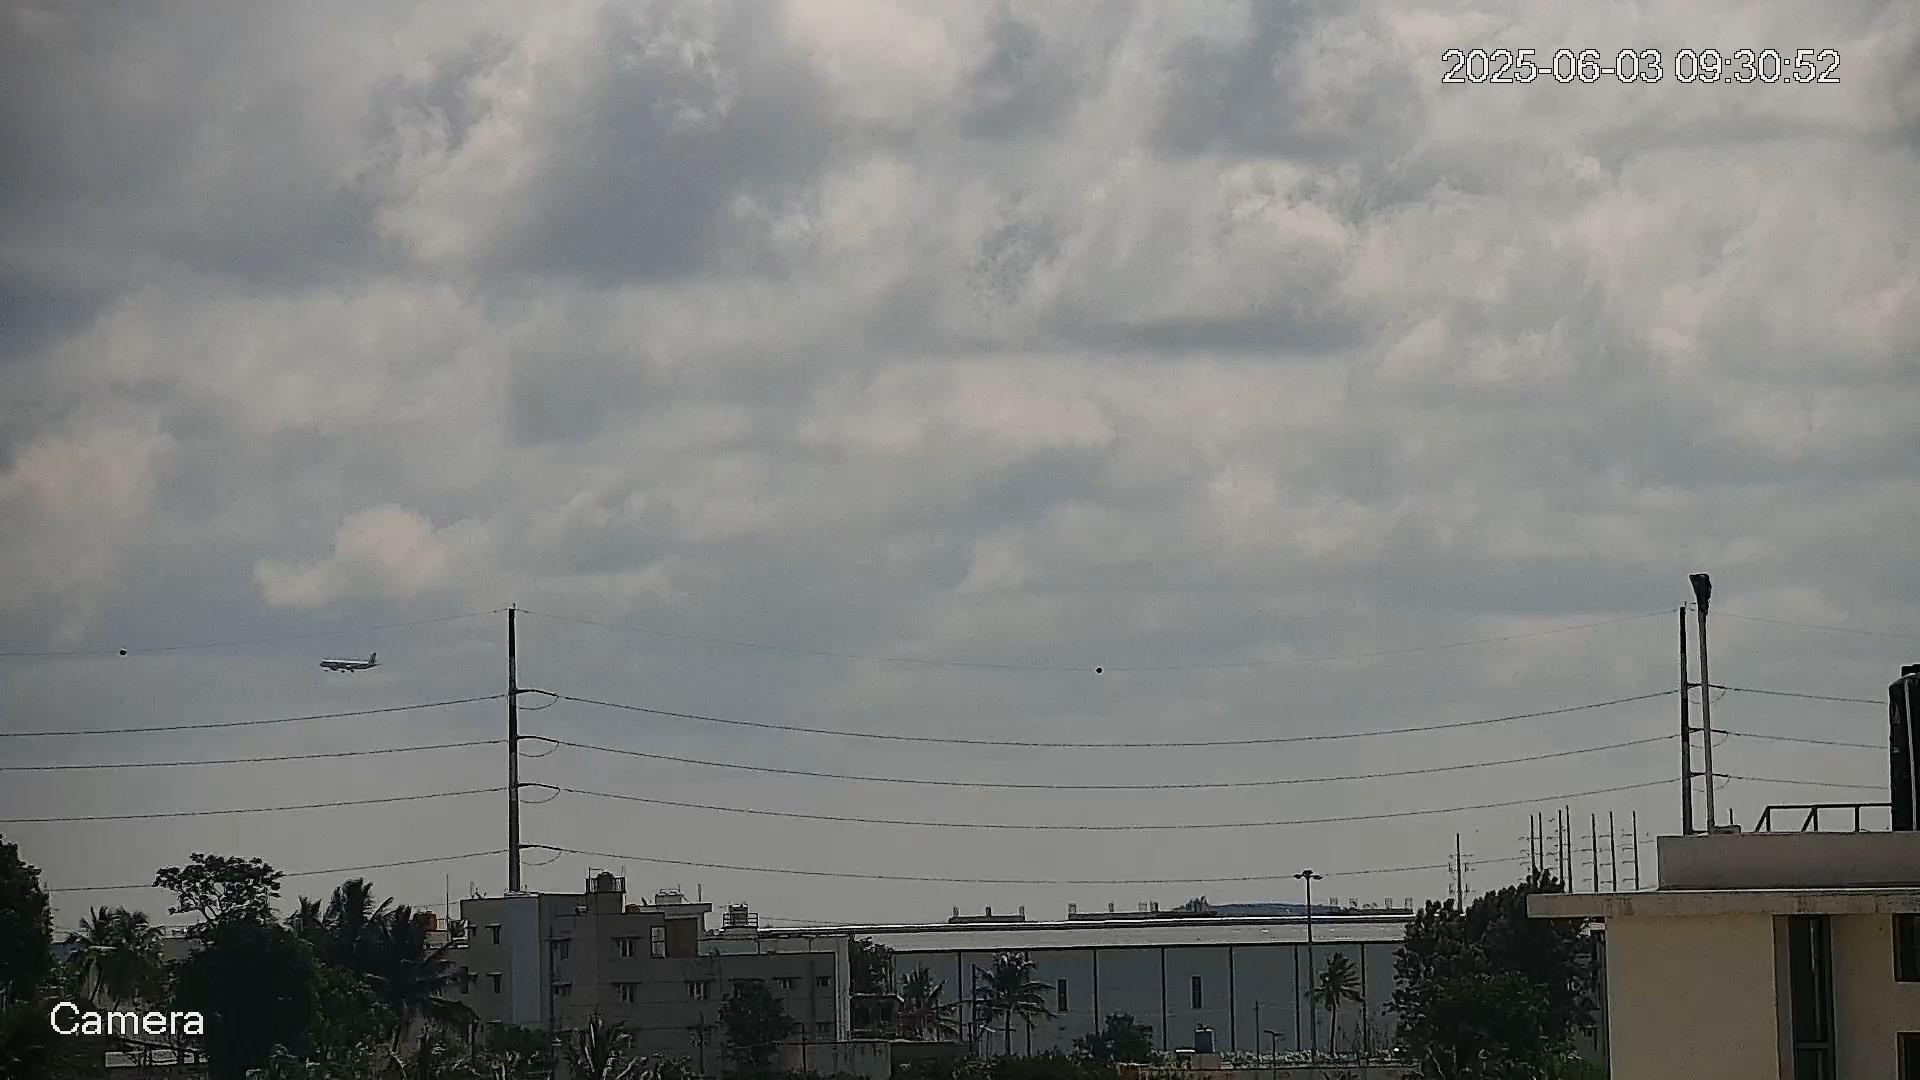Aircraft: (318, 653, 381, 675)
